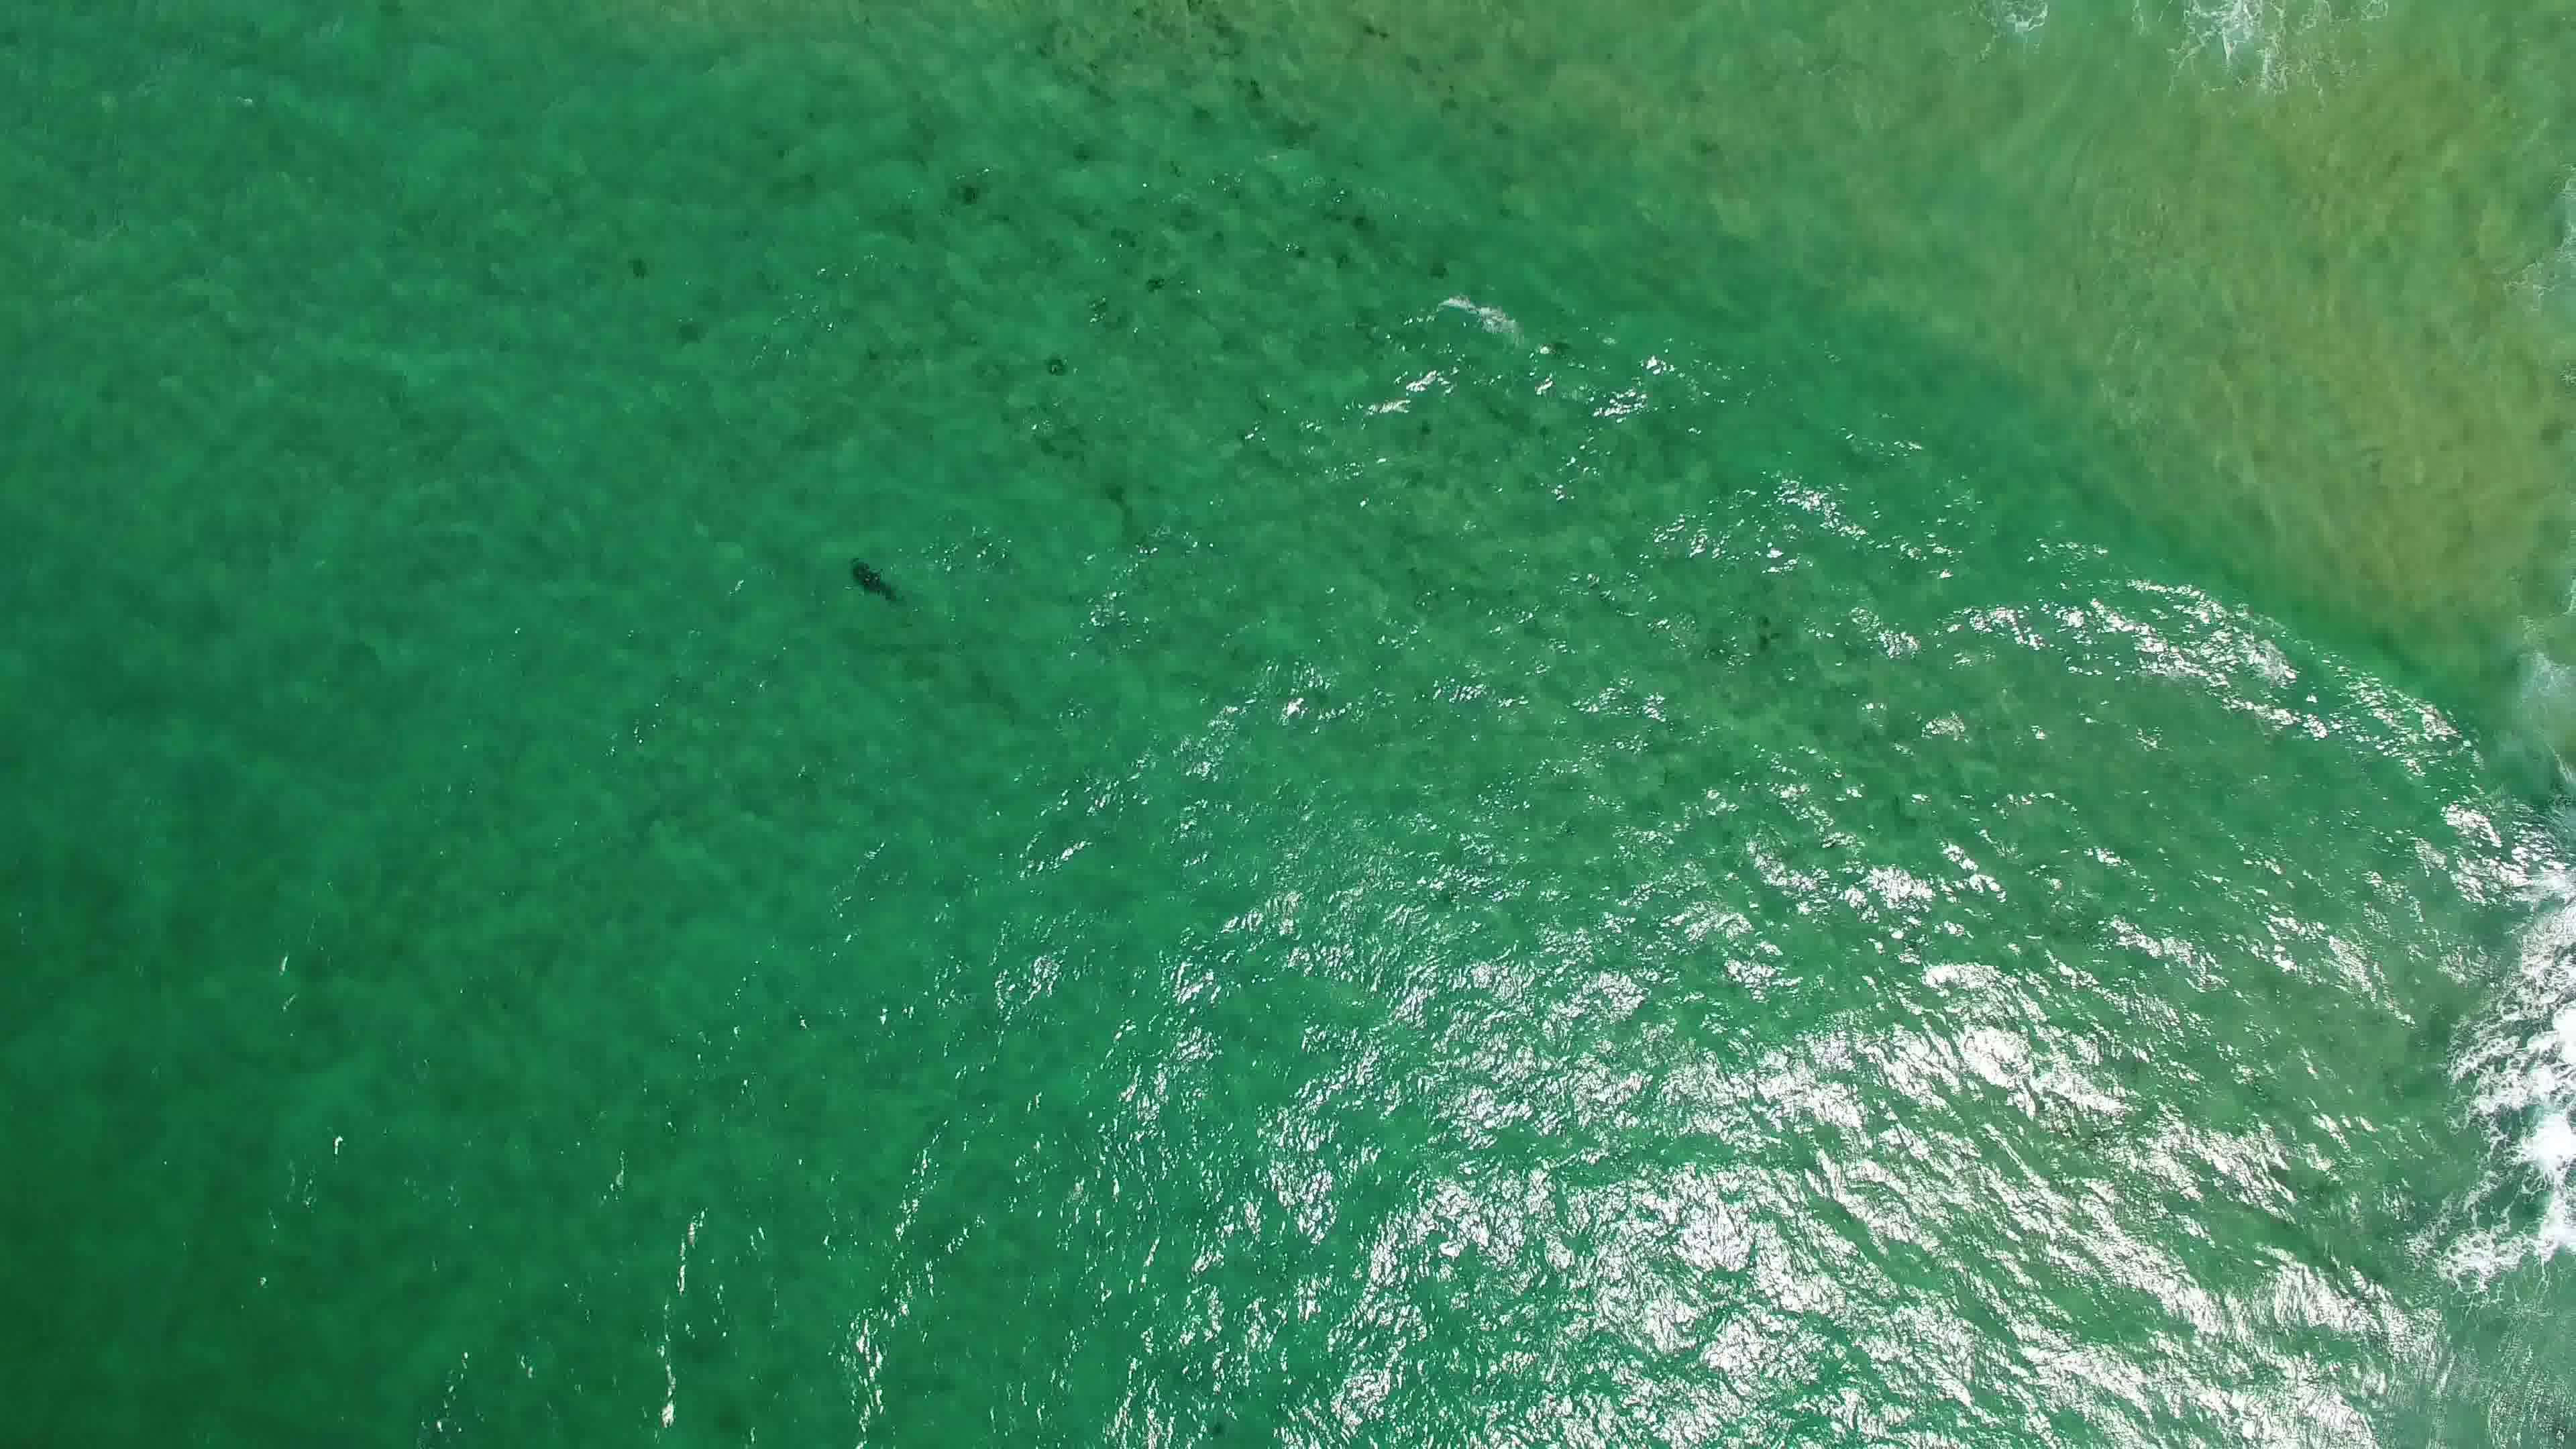shark: (842, 552, 908, 610)
